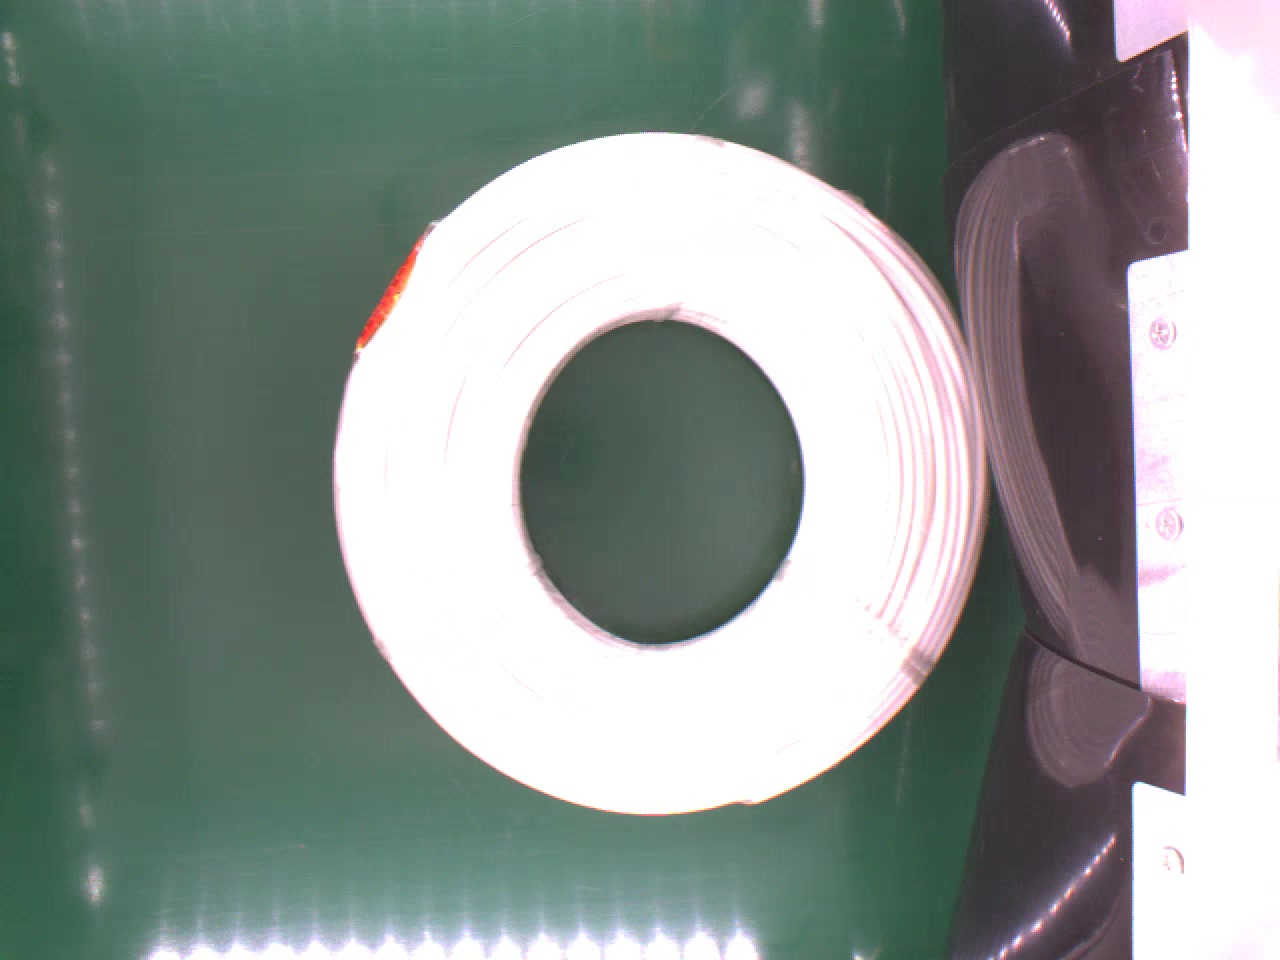white: (328, 125, 1002, 814)
